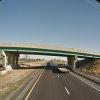Bridge: (3, 37, 91, 66)
